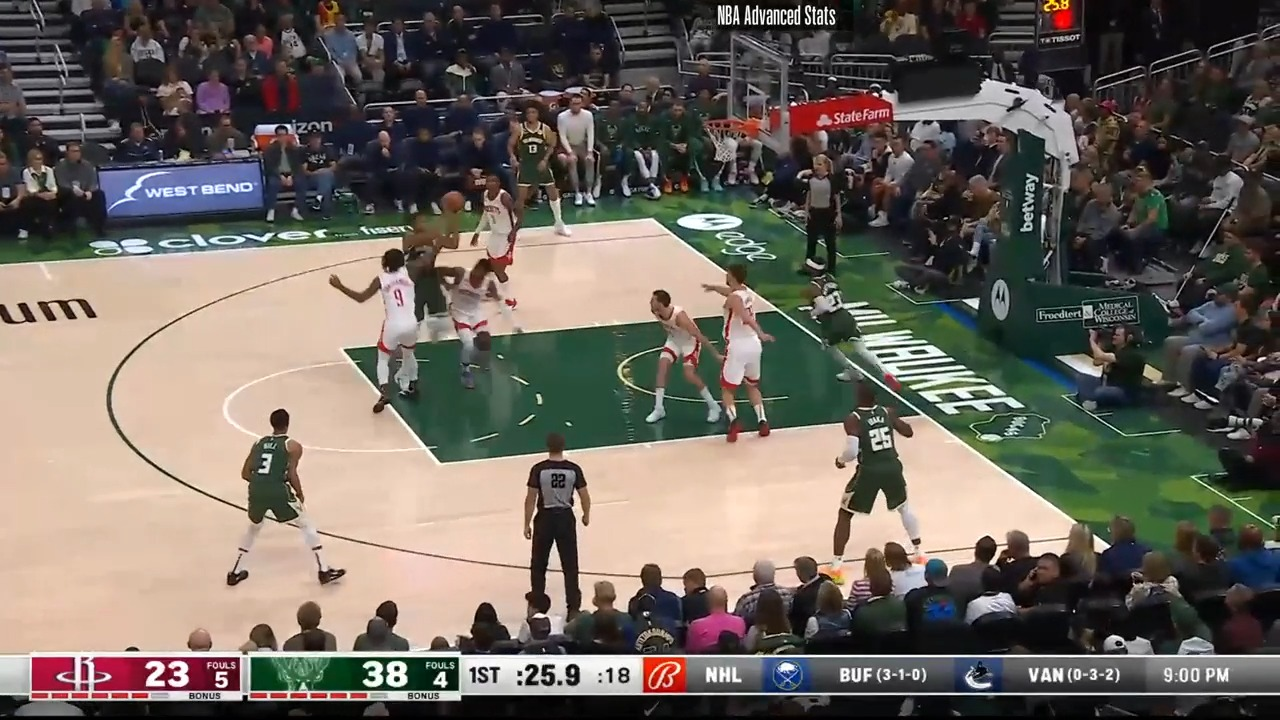net: (702, 113, 765, 163)
player: (329, 219, 452, 417), (221, 404, 349, 590), (823, 383, 924, 566), (693, 258, 774, 444), (796, 256, 902, 394), (420, 257, 518, 398), (394, 204, 471, 383), (642, 291, 730, 442), (456, 167, 523, 318), (505, 97, 572, 236)
referee: (520, 427, 598, 614), (807, 154, 844, 279)
